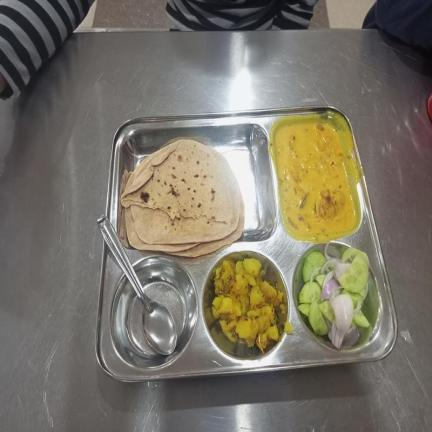Curry: (273, 122, 358, 239)
Plate: (95, 104, 397, 380)
Roti: (120, 138, 246, 259)
Salad: (299, 247, 372, 350)
Zeera Aalu: (213, 256, 284, 354)
